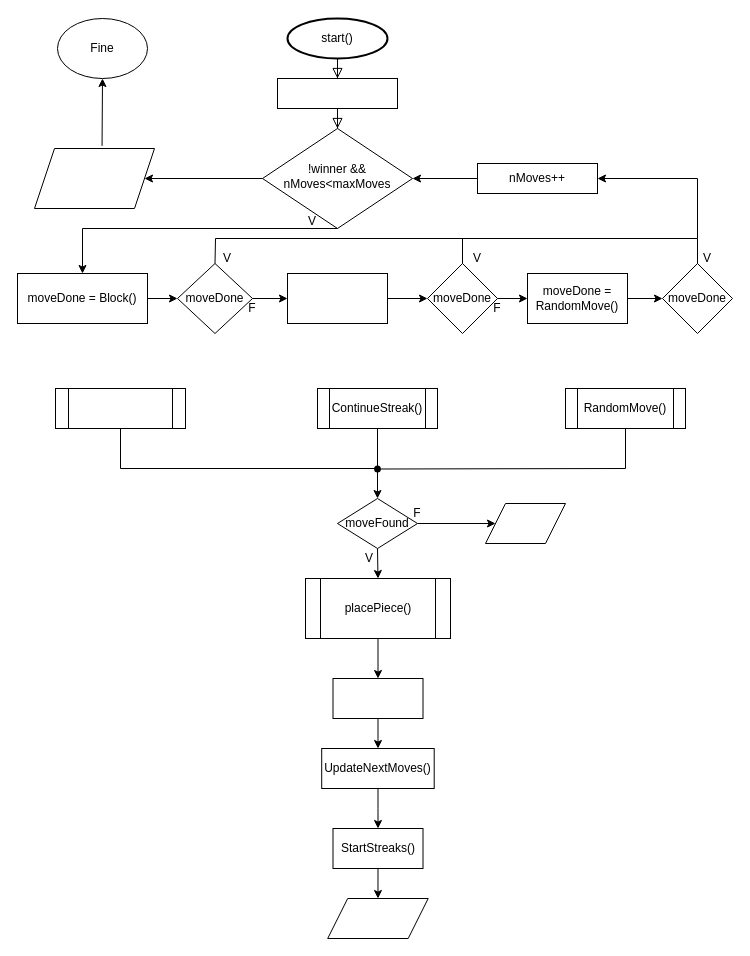
Image size: 750x956. Some labels were removed from this diagram. Here are the shapes that lost their labels. From the top down, the centre of each, then its label:
At point 337,93: "maxMoves = rows * cols".
At point 94,178: "Print Riepilogo".
At point 337,298: "moveDone = continueStreak()".
At point 120,408: "Block()".
At point 525,523: "return false".
At point 377,698: "CleaningCell()".
At point 377,918: "return true".
